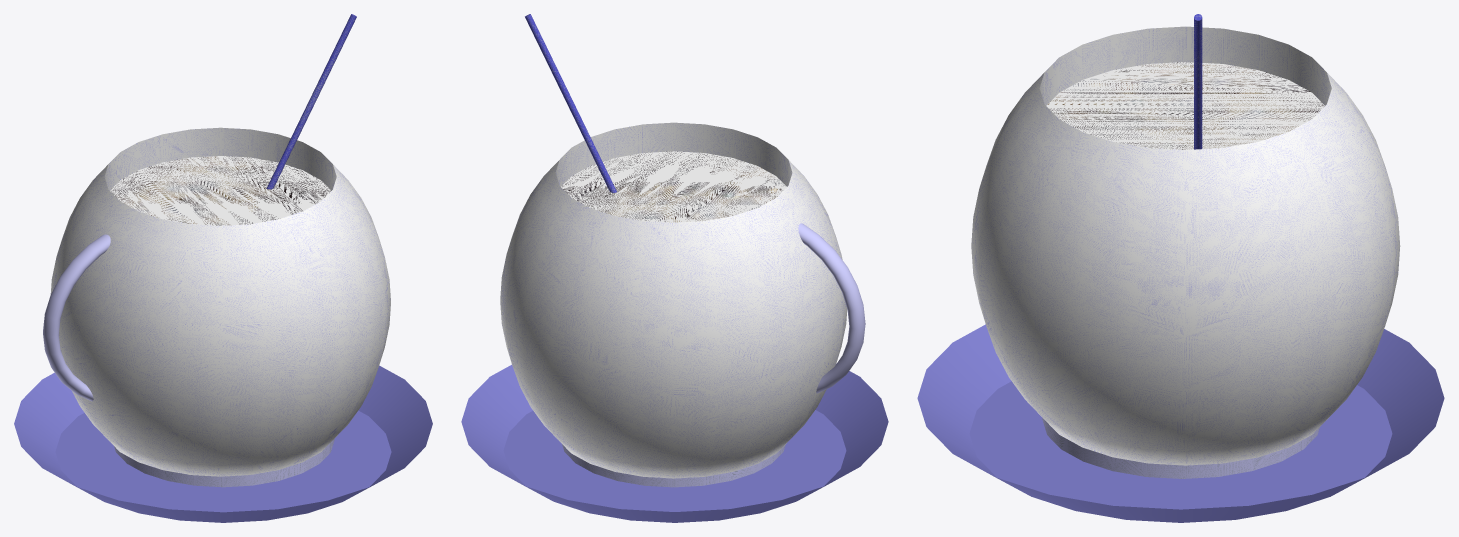
File: Teh.dae
3 views of the same model, side by side, from view 1: azimuth 30°, elevation 25°; view 2: azimuth 150°, elevation 25°; view 3: azimuth 270°, elevation 25° (orthographic). The views are drawn at different scales.
Parts seen in each view (by area): view 1: group_0 (×3), group_2, group_3, group_1; view 2: group_0 (×3), group_2, group_3, group_1; view 3: group_0 (×3), group_2, group_1.
Boxes of the visible parts, x1,y1,x2,y2 form: group_0 (×3): (50,127,390,487); group_2: (14,365,432,522); group_3: (43,234,110,401); group_1: (266,14,356,189); group_0 (×3): (500,122,847,487); group_2: (461,364,888,522); group_3: (798,223,865,393); group_1: (525,14,616,192); group_0 (×3): (971,26,1400,478); group_2: (917,324,1444,522); group_1: (1194,14,1202,149).
Size of the model in its own units: 81.14 by 81 by 85.2.
